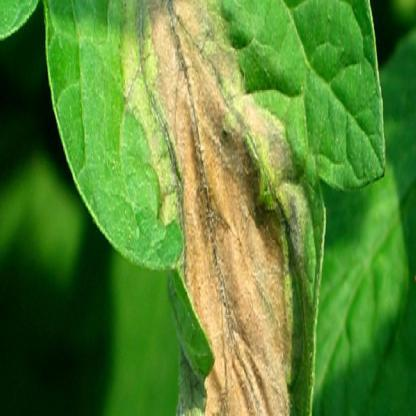Tomato leaf mosaic virus: (42, 6, 404, 412)
